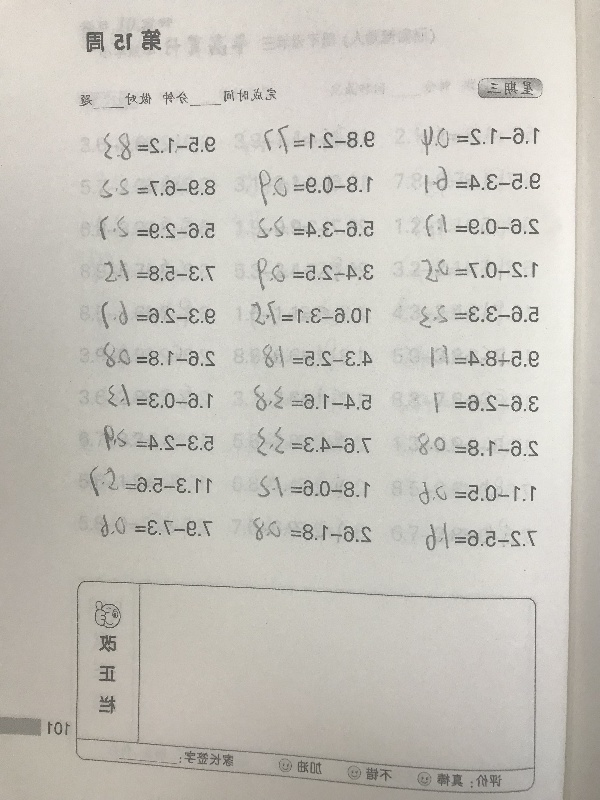equation: (391, 298, 543, 334), (254, 166, 375, 210), (570, 1, 599, 177), (229, 470, 375, 504), (233, 514, 379, 548), (230, 381, 375, 415), (228, 424, 373, 458), (419, 518, 545, 556), (390, 340, 544, 371), (83, 129, 219, 164), (411, 160, 545, 195), (417, 123, 543, 160), (85, 212, 218, 245), (260, 121, 378, 158), (93, 255, 225, 288), (92, 298, 224, 331), (89, 341, 221, 374), (89, 380, 221, 413), (87, 423, 219, 456), (82, 464, 214, 497), (83, 511, 215, 544), (251, 215, 377, 249), (252, 256, 378, 290), (248, 296, 374, 330), (251, 338, 377, 372), (411, 429, 542, 460), (409, 256, 542, 286), (408, 479, 540, 509), (419, 211, 542, 243), (78, 174, 220, 200), (421, 387, 543, 415)
